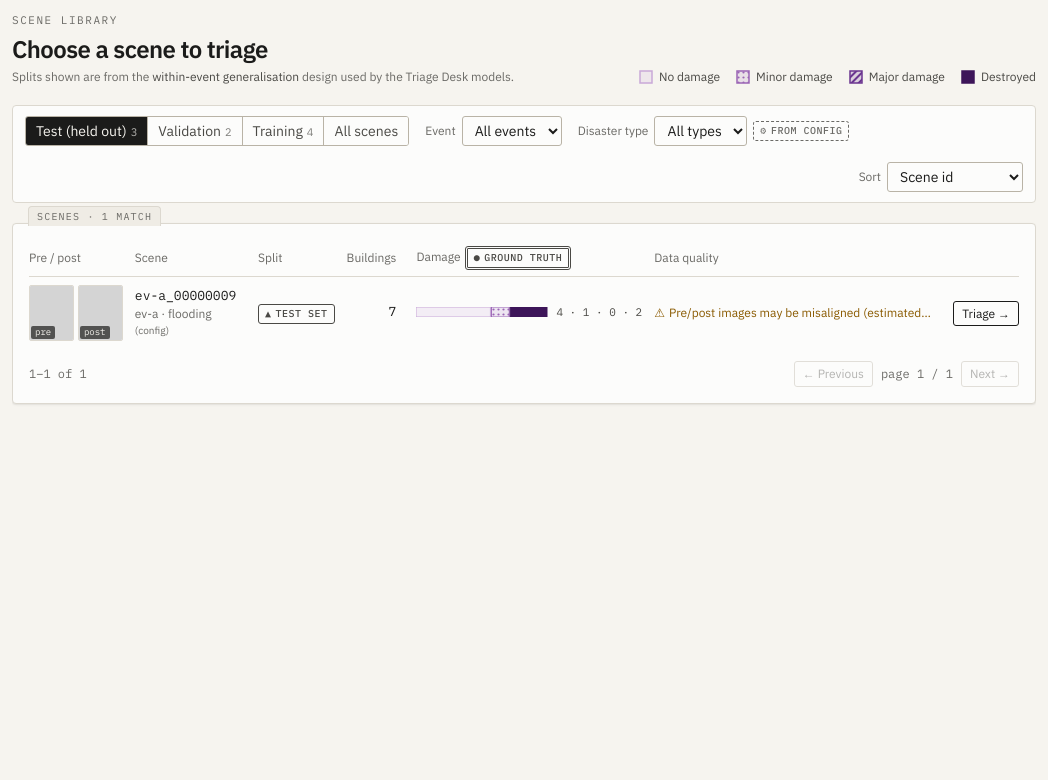
Test case: Scene Library › switching to training scenes shows the optimism warning on the page and on every row
This screenshot has width=1048, height=780.
Check: the text "ev-a_00000009" is shown, box [135,287,246,306]
Step 1. Click the radio button labelled "Training4" → coordinates (284, 130), box [243,116,324,144]
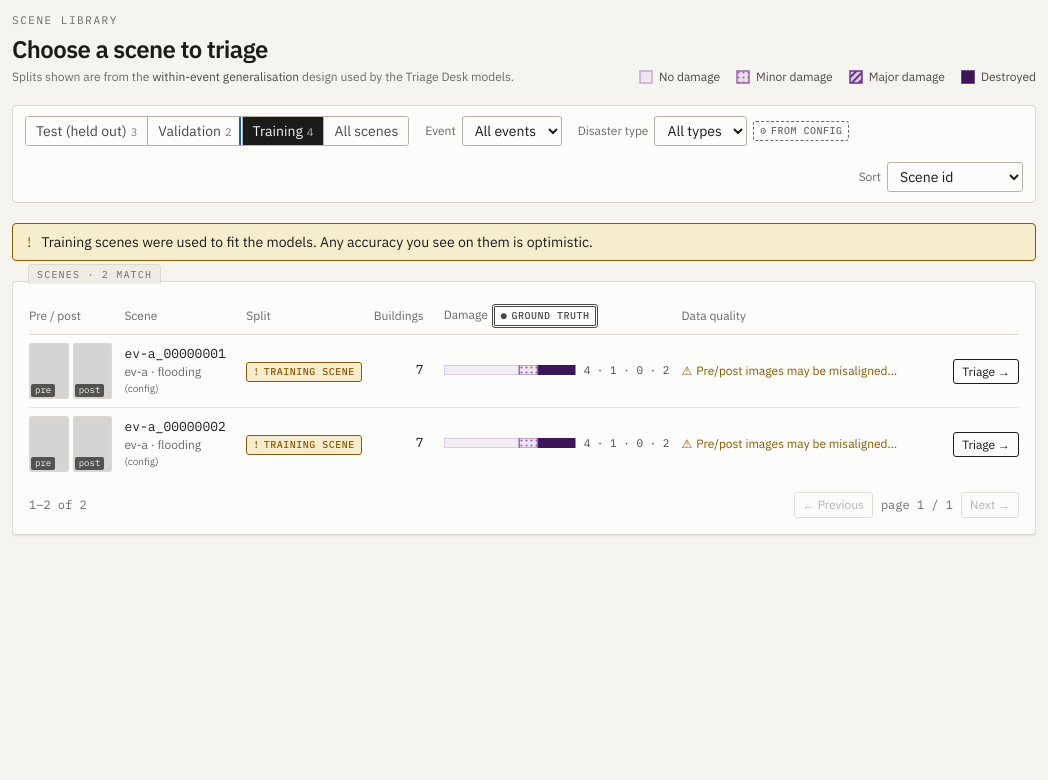
Check: the text "ev-a_00000001" is shown, box [124,345,234,364]
Check: the text "Training scenes were used to fit the models" is shown, box [41,232,593,250]
Check: the text "TRAINING SCENE" is shown 2 times, box [246,362,362,382]; [246,434,362,454]
